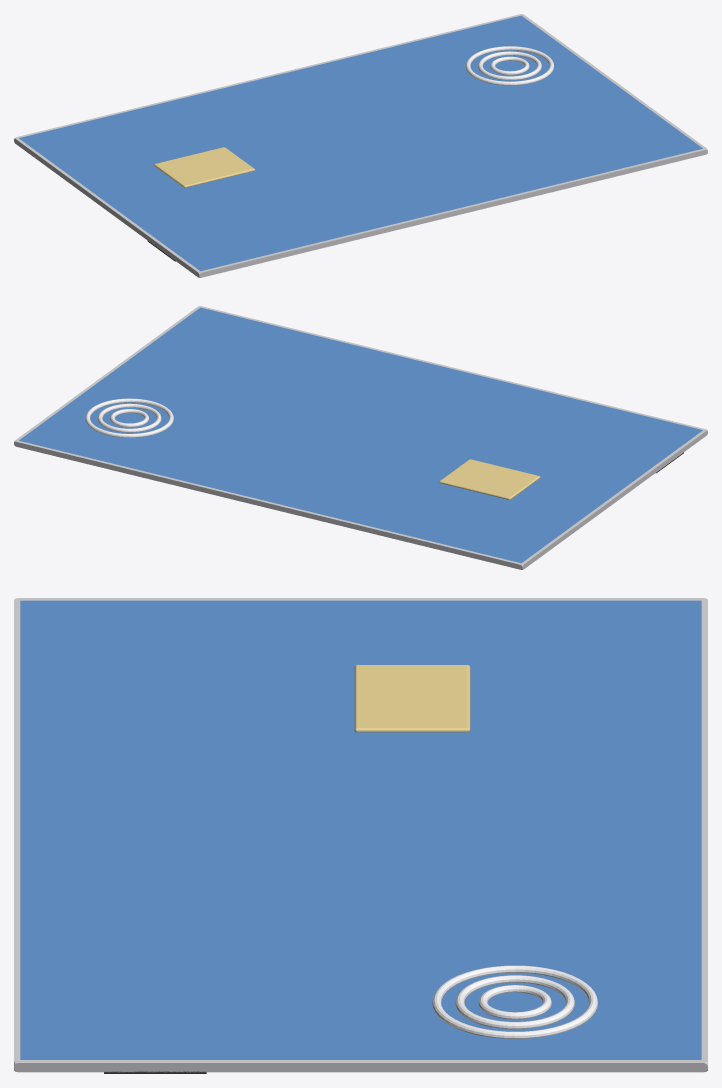
The model's file is bank_card.glb.
3 renders of one model, top to bottom at view 1: azimuth 30°, elevation 25°; view 2: azimuth 150°, elevation 25°; view 3: azimuth 270°, elevation 25°, orthographic. The views are drawn at different scales.
Parts seen in each view (by area): view 1: Face, Card, Chip, Wave2, Wave1; view 2: Face, Card, Chip, Wave2, Wave1; view 3: Face, Card, Chip, Wave2, Wave1, Wave0.
Boxes of the visible parts, x1=… form: Face: x1=19, y1=15, x2=702, y2=271; Card: x1=14, y1=14, x2=707, y2=277; Chip: x1=154, y1=147, x2=254, y2=187; Wave2: x1=465, y1=46, x2=554, y2=85; Wave1: x1=478, y1=51, x2=541, y2=80; Face: x1=19, y1=307, x2=702, y2=563; Card: x1=14, y1=306, x2=707, y2=569; Chip: x1=439, y1=459, x2=540, y2=499; Wave2: x1=85, y1=398, x2=173, y2=437; Wave1: x1=97, y1=403, x2=161, y2=432; Face: x1=20, y1=600, x2=701, y2=1059; Card: x1=14, y1=598, x2=707, y2=1072; Chip: x1=354, y1=665, x2=470, y2=732; Wave2: x1=432, y1=965, x2=597, y2=1038; Wave1: x1=455, y1=975, x2=574, y2=1029; Wave0: x1=478, y1=985, x2=551, y2=1019.
Bounding box in the file's own units: 0.0856 × 0.0014 × 0.054.
